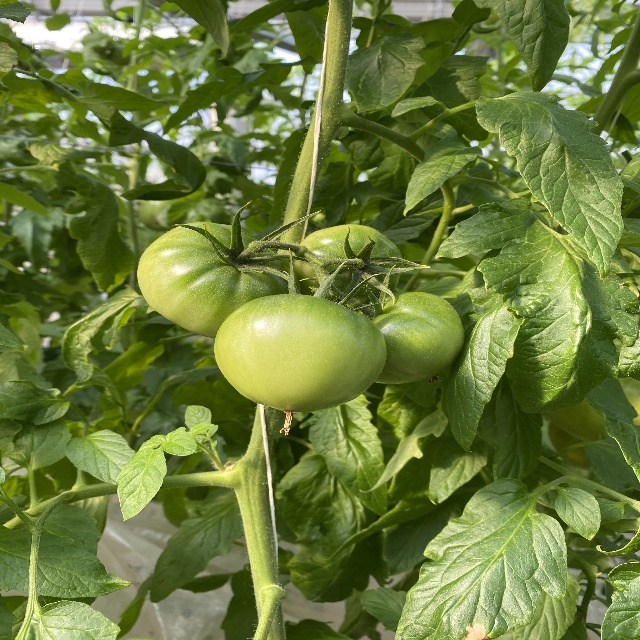b_green: (214, 293, 388, 413), (137, 222, 301, 339), (355, 291, 466, 383), (290, 224, 404, 312)
